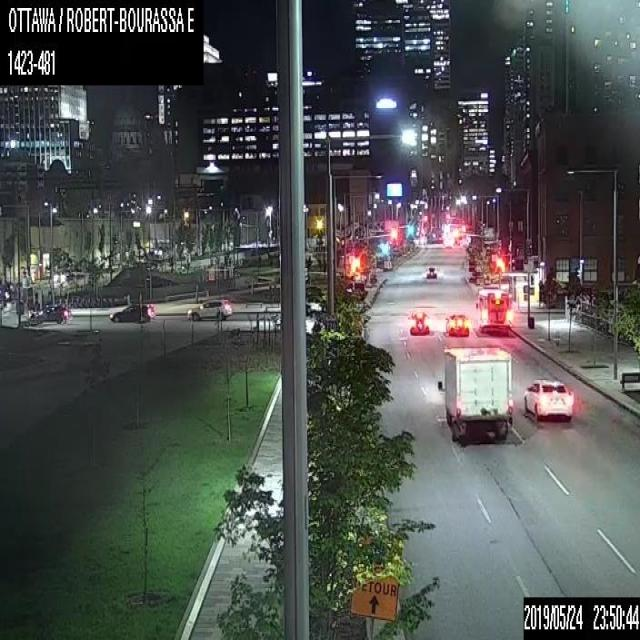construction: (350, 541, 403, 636)
vehicle: (436, 346, 512, 446), (524, 375, 574, 421), (474, 288, 514, 336), (107, 300, 155, 324), (186, 296, 232, 320), (34, 303, 72, 324), (407, 307, 431, 337), (444, 311, 468, 337), (425, 263, 437, 280)
